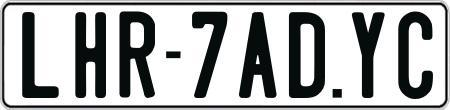7: (192, 11, 231, 100)
A: (239, 10, 279, 101)
C: (395, 9, 432, 99)
D: (288, 9, 330, 97)
H: (72, 10, 107, 97)
L: (19, 12, 58, 100)
R: (120, 8, 160, 97)
Y: (349, 10, 386, 97)
